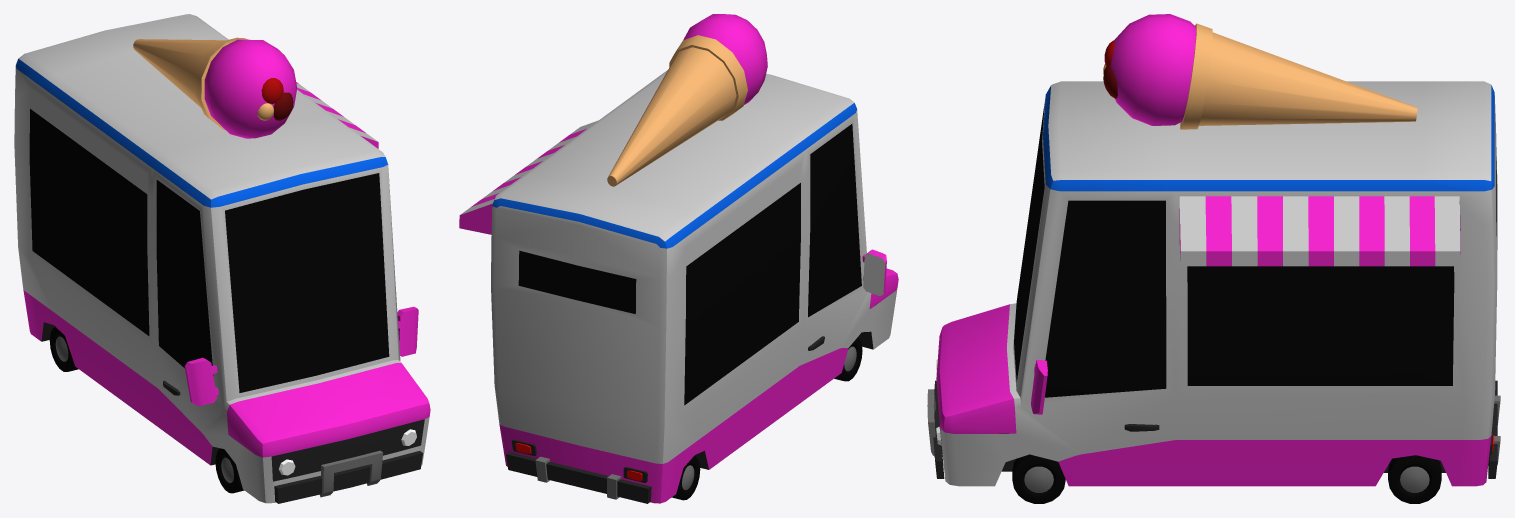
3 views of the same model, side by side, from view 1: azimuth 30°, elevation 25°; view 2: azimuth 150°, elevation 25°; view 3: azimuth 270°, elevation 25° (orthographic). The views are drawn at different scales.
Parts seen in each view (by area): view 1: Cube, Cone, Cube.008, Cube.002, Cylinder.002, Cylinder.003, Plane; view 2: Cube, Cone, Cube.008, Plane, Cube.002, Cylinder.003, Cylinder.002; view 3: Cube, Cone, Plane, Cylinder.001, Cylinder.000, Cube.008, Cube.002.
Part boxes in pixels (bbox=[...]): Cube: bbox=[14, 14, 430, 503]; Cone: bbox=[133, 37, 297, 138]; Cube.008: bbox=[271, 419, 424, 503]; Cube.002: bbox=[184, 306, 418, 406]; Cylinder.002: bbox=[215, 448, 244, 493]; Cylinder.003: bbox=[49, 326, 78, 371]; Plane: bbox=[296, 82, 378, 148]; Cube: bbox=[491, 70, 898, 503]; Cone: bbox=[607, 14, 767, 186]; Cube.008: bbox=[506, 304, 876, 503]; Plane: bbox=[459, 120, 598, 234]; Cube.002: bbox=[862, 249, 886, 295]; Cylinder.003: bbox=[672, 456, 700, 500]; Cylinder.002: bbox=[834, 337, 862, 381]; Cube: bbox=[936, 81, 1497, 486]; Cone: bbox=[1103, 14, 1417, 129]; Plane: bbox=[1179, 196, 1460, 266]; Cylinder.001: bbox=[1388, 455, 1441, 503]; Cylinder.000: bbox=[1012, 454, 1065, 503]; Cube.008: bbox=[927, 359, 1500, 478]; Cube.002: bbox=[1031, 359, 1047, 414].
Bounding box in the file's own units: 181 × 267 × 313.
